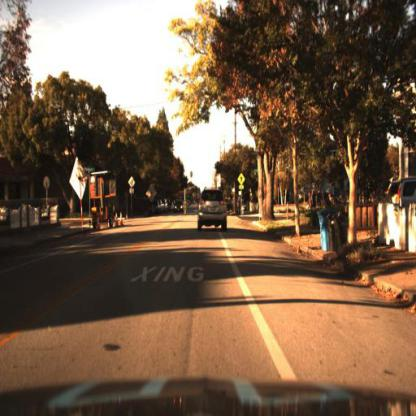car: (196, 188, 230, 236), (174, 198, 188, 219)
